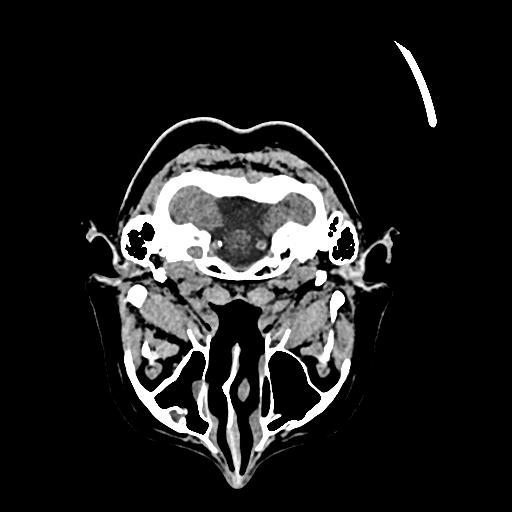Normal_Brain: (90, 115, 398, 486)
